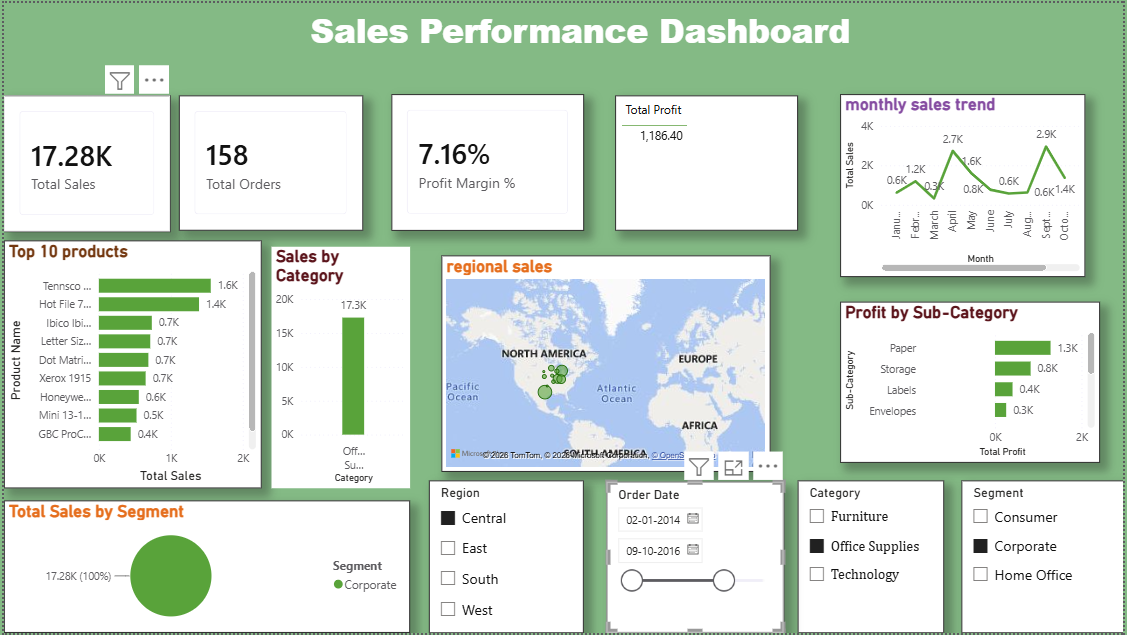

This screenshot's page, from the dashboard's own definition file:
{"tool":"powerbi","page":{"name":"Page 1","canvas":[1280,720],"ordinal":0},"visuals":[{"type":"cardVisual","fields":{"Data":["Sample - Superstore.Total Sales"]},"box":[0,105.7,190,155.7],"z":0},{"type":"cardVisual","fields":{"Data":["Sample - Superstore.Total Orders"]},"box":[200,105.7,210,154.3],"z":1000},{"type":"tableEx","fields":{"Values":["Sample - Superstore.Total Profit"]},"box":[698.6,105.7,208.6,154.3],"z":2000},{"type":"cardVisual","fields":{"Data":["Sample - Superstore.Profit Margin %"]},"box":[442.9,104.3,220,155.7],"z":3000},{"type":"lineChart","title":" monthly sales trend","fields":{"Y":["Sample - Superstore.Total Sales"],"Category":["Sample - Superstore.Order Date.Variation.Date Hierarchy.Year","Sample - Superstore.Order Date.Variation.Date Hierarchy.Month"]},"box":[955.7,104.3,280,208.6],"z":4000},{"type":"clusteredBarChart","title":" Top 10 products","fields":{"Y":["Sample - Superstore.Total Sales"],"Category":["Sample - Superstore.Product Name"]},"box":[0,271.4,294.3,282.9],"z":5000},{"type":"clusteredColumnChart","title":" Sales by Category","fields":{"Category":["Sample - Superstore.Category"],"Y":["Sample - Superstore.Total Sales"]},"box":[305.7,278.6,158.6,275.7],"z":6000},{"type":"map","title":" regional sales ","fields":{"Category":["Sample - Superstore.State"],"Size":["Sample - Superstore.Total Sales"]},"box":[500,288.6,375.7,247.1],"z":7000},{"type":"clusteredBarChart","title":" Profit by Sub-Category","fields":{"Category":["Sample - Superstore.Sub-Category"],"Y":["Sample - Superstore.Total Profit"]},"box":[955.7,341.4,297.1,184.3],"z":8000},{"type":"pieChart","fields":{"Category":["Sample - Superstore.Segment"],"Y":["Sample - Superstore.Total Sales"]},"box":[0,568.6,464.3,151.4],"z":9000},{"type":"slicer","fields":{"Values":["Sample - Superstore.Region"]},"box":[485.7,545.7,177.1,174.3],"z":10000},{"type":"slicer","fields":{"Values":["Sample - Superstore.Category"]},"box":[907.1,545.7,167.1,174.3],"z":11000},{"type":"slicer","fields":{"Values":["Sample - Superstore.Segment"]},"box":[1094.3,545.7,185.7,174.3],"z":12000},{"type":"slicer","fields":{"Values":["Sample - Superstore.Order Date"]},"box":[688.6,547.1,202.9,172.9],"z":13000},{"type":"textbox","box":[104.3,0,1096.4,64.5],"z":14000}]}

Visuals, with their boxes in screenshot pixels (x1, y1, x2, y2), scaled from the page's 1280x720 canvas onto the 1127x635 screenshot:
cardVisual - Sample - Superstore.Total Sales: bbox(0, 93, 167, 231)
cardVisual - Sample - Superstore.Total Orders: bbox(176, 93, 361, 229)
tableEx - Sample - Superstore.Total Profit: bbox(615, 93, 799, 229)
cardVisual - Sample - Superstore.Profit Margin %: bbox(390, 92, 584, 229)
" monthly sales trend" lineChart: bbox(841, 92, 1088, 276)
" Top 10 products" clusteredBarChart: bbox(0, 239, 259, 489)
" Sales by Category" clusteredColumnChart: bbox(269, 246, 409, 489)
" regional sales " map: bbox(440, 255, 771, 472)
" Profit by Sub-Category" clusteredBarChart: bbox(841, 301, 1103, 464)
pieChart - Sample - Superstore.Segment x Sample - Superstore.Total Sales: bbox(0, 501, 409, 634)
slicer - Sample - Superstore.Region: bbox(428, 481, 584, 634)
slicer - Sample - Superstore.Category: bbox(799, 481, 946, 634)
slicer - Sample - Superstore.Segment: bbox(963, 481, 1126, 634)
slicer - Sample - Superstore.Order Date: bbox(606, 483, 785, 634)
textbox: bbox(92, 0, 1057, 57)
